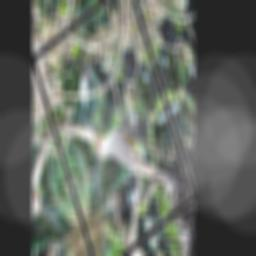Cuckoo: (86, 72, 183, 237)
